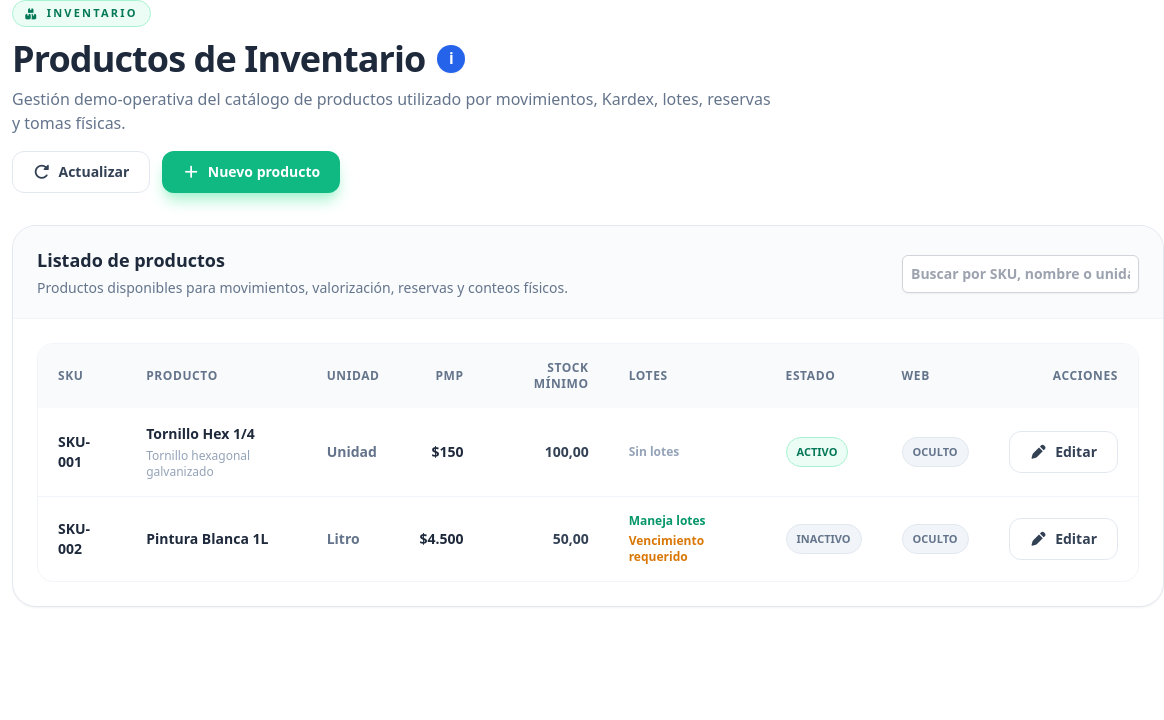
Test: ProductosInventario — edición › abre el formulario precargado con los datos del producto al pulsar "Editar"
Click the button "Editar" in the row of "SKU-001" at (1063, 452), box [1009,431,1118,473]
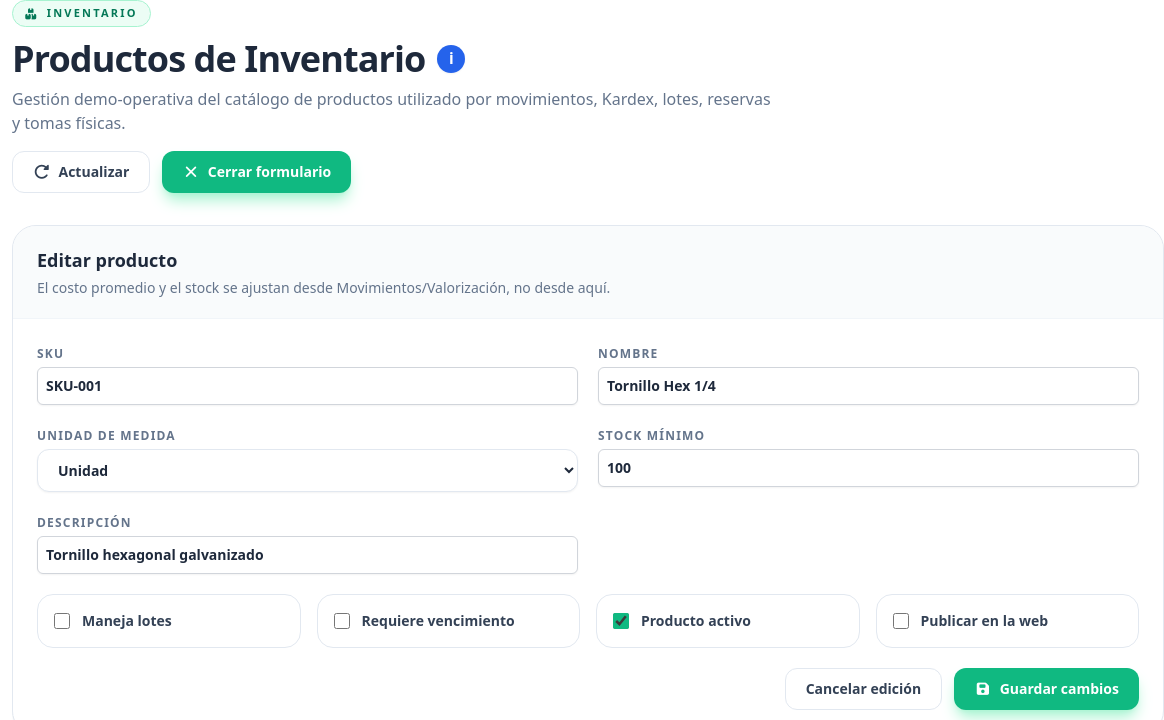
Now the heading "Editar producto" is shown, box [37,248,177,272]
Now the field showing "SKU-001" is shown, box [37,367,578,405]
Now the field showing "Tornillo Hex 1/4" is shown, box [598,367,1139,405]
